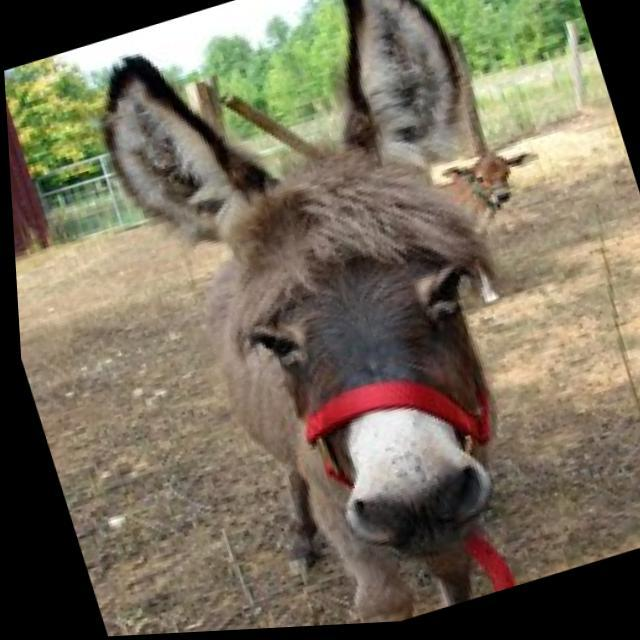Donkey: (46, 0, 640, 638)
